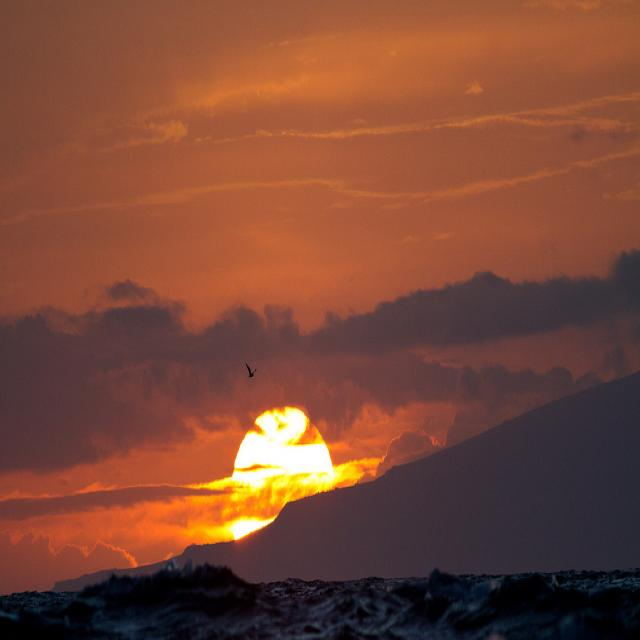no_fire: (12, 194, 534, 607)
